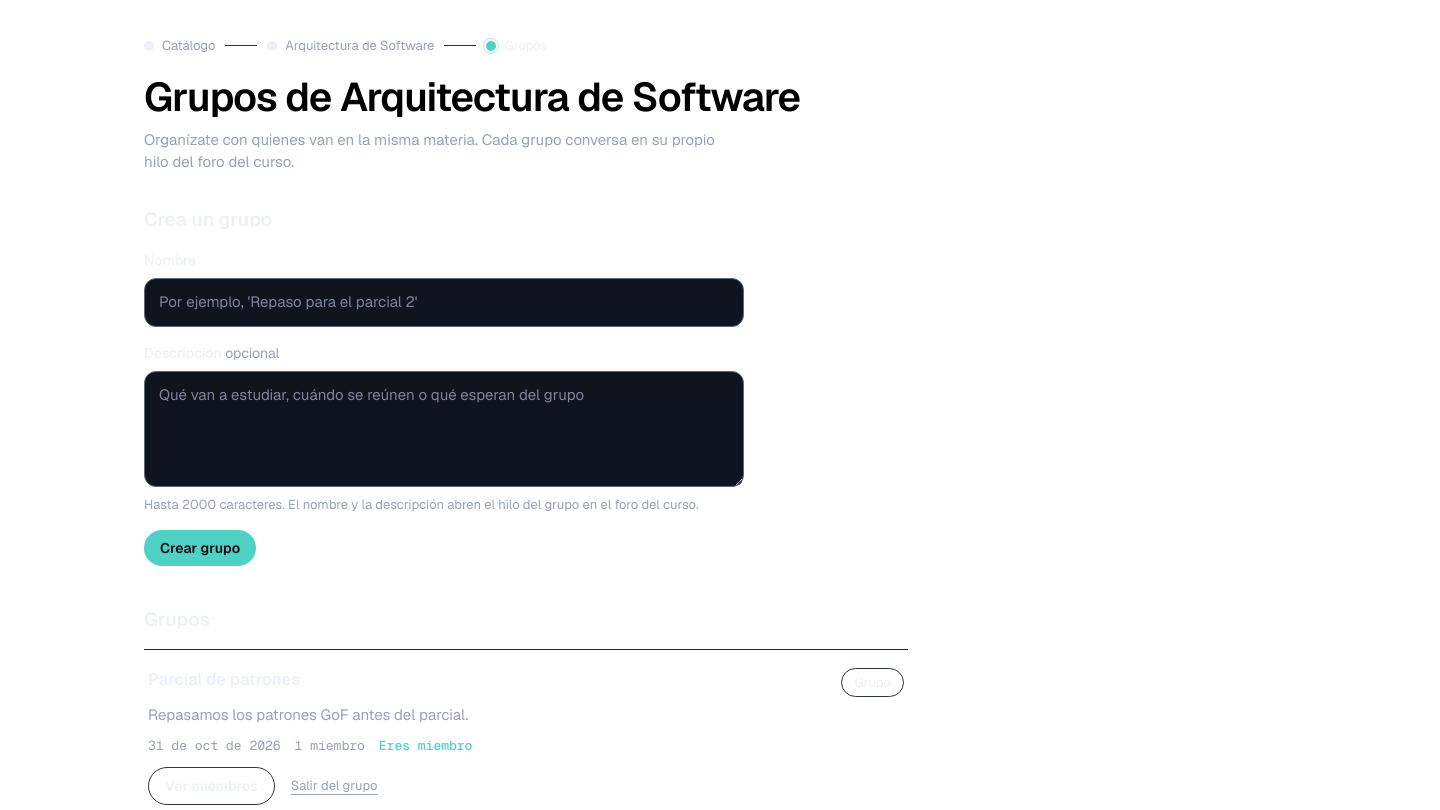
Test: Unirse a un grupo de estudio y salir de él (HU405) › si sale el último miembro, el grupo sigue en la lista, sin miembros, y se puede volver a unir
Click the button with aria-label "Salir del grupo Parcial de patrones".
click(334, 786)  # box 291,774 -> 378,798
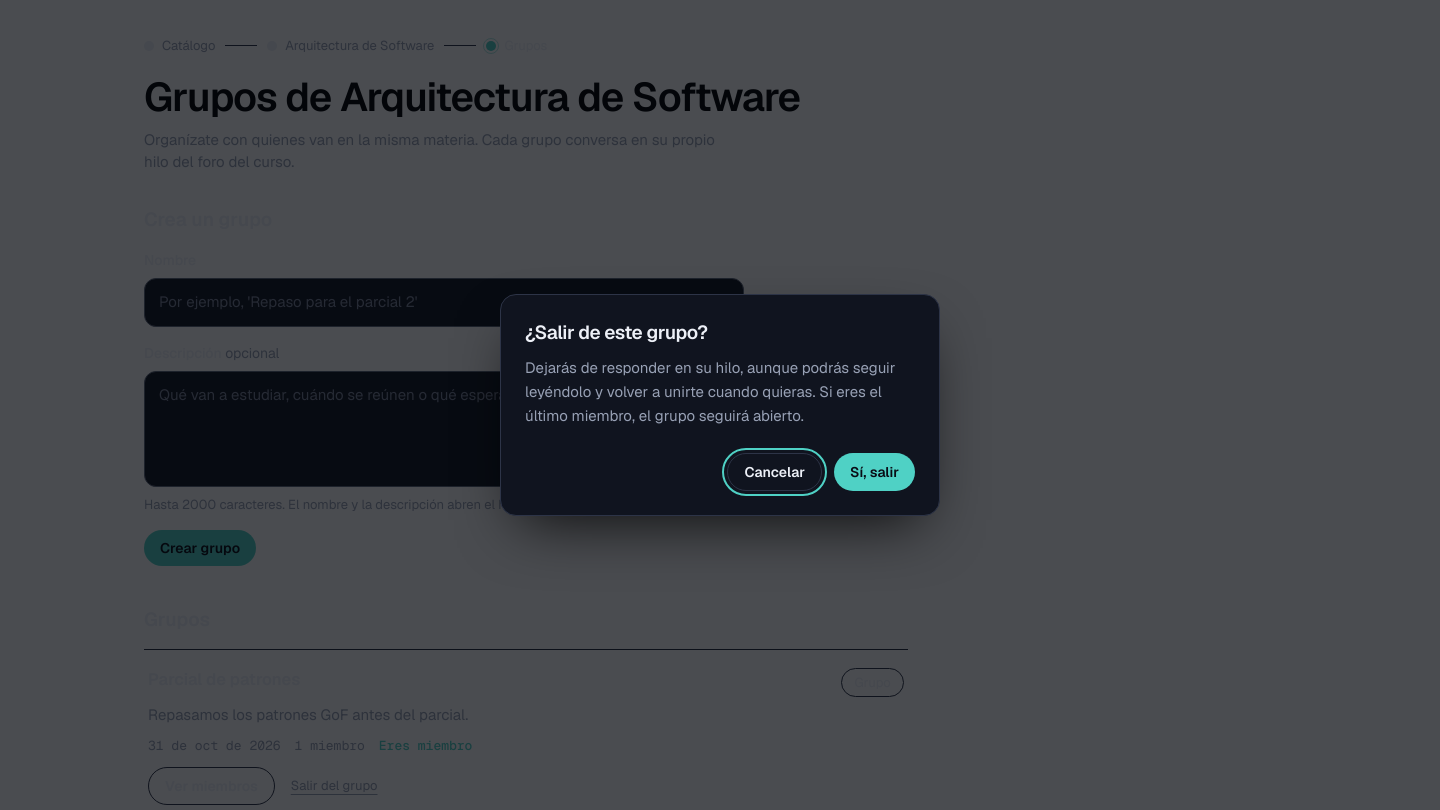
Click the button "Sí, salir".
click(874, 472)  # box 834,453 -> 915,491
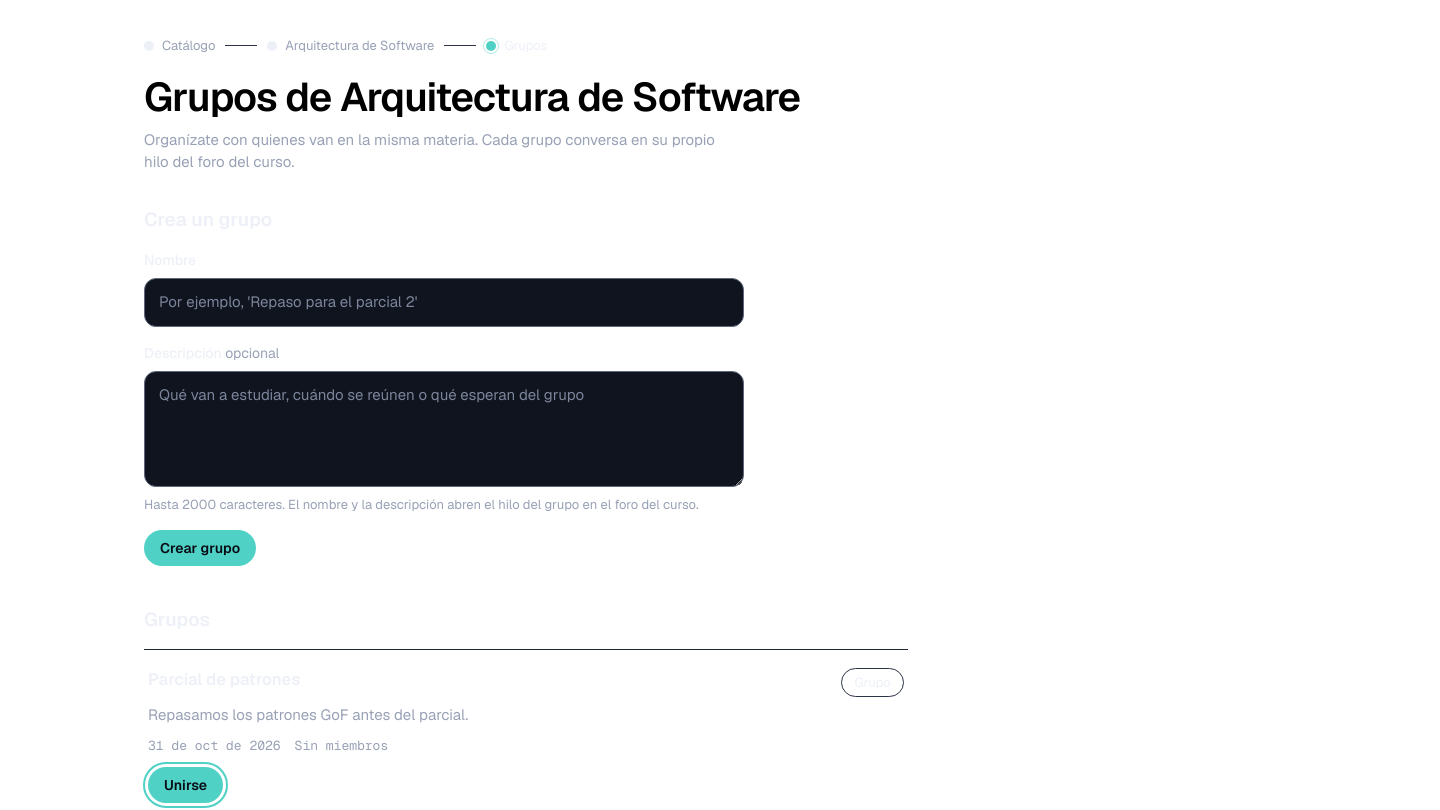
Now the text "Sin miembros" is shown, box 295,736 -> 388,755
Now the button with aria-label "Unirse al grupo Parcial de patrones" is shown, box 148,767 -> 223,803
